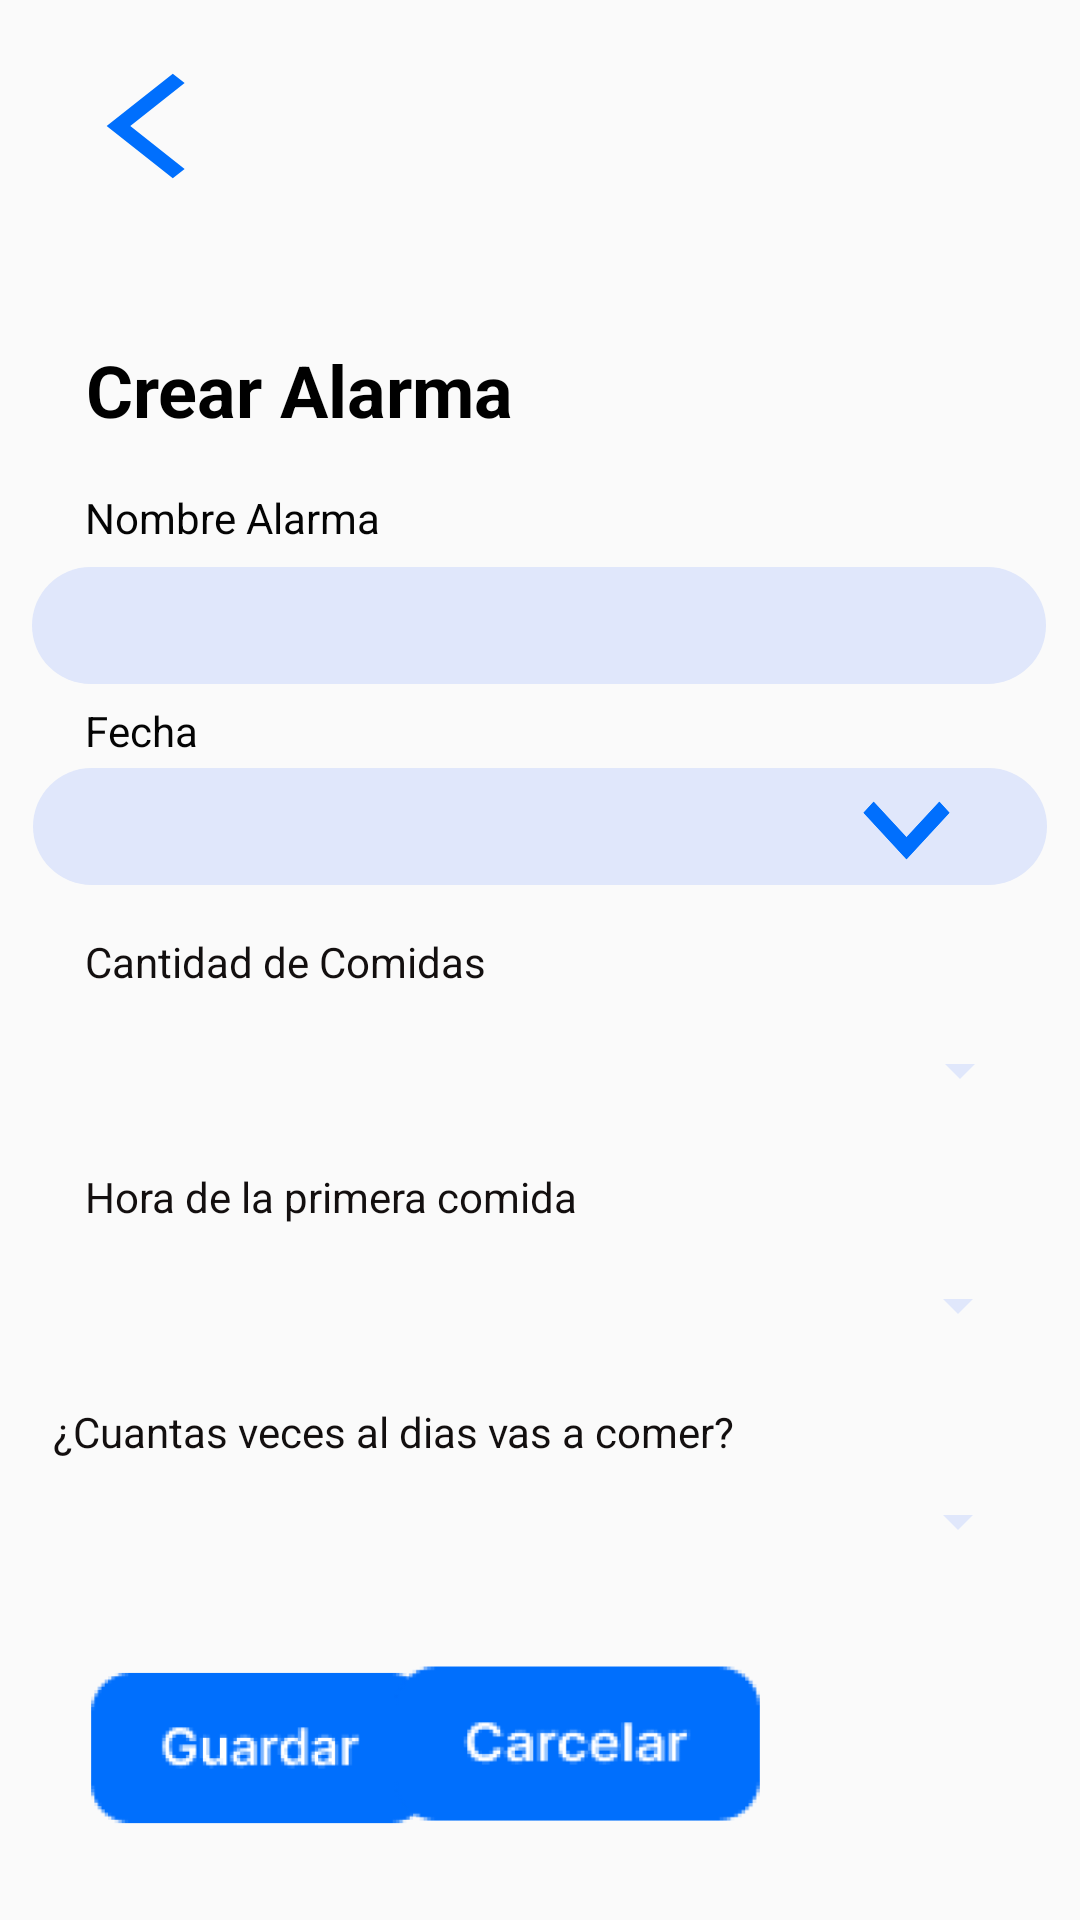

Screen size 1080px×1920px. Icon name, then its box in pixels as [left=x1, top=y1, right=x2, bottom=y2]:
back: [left=107, top=74, right=185, bottom=178]
